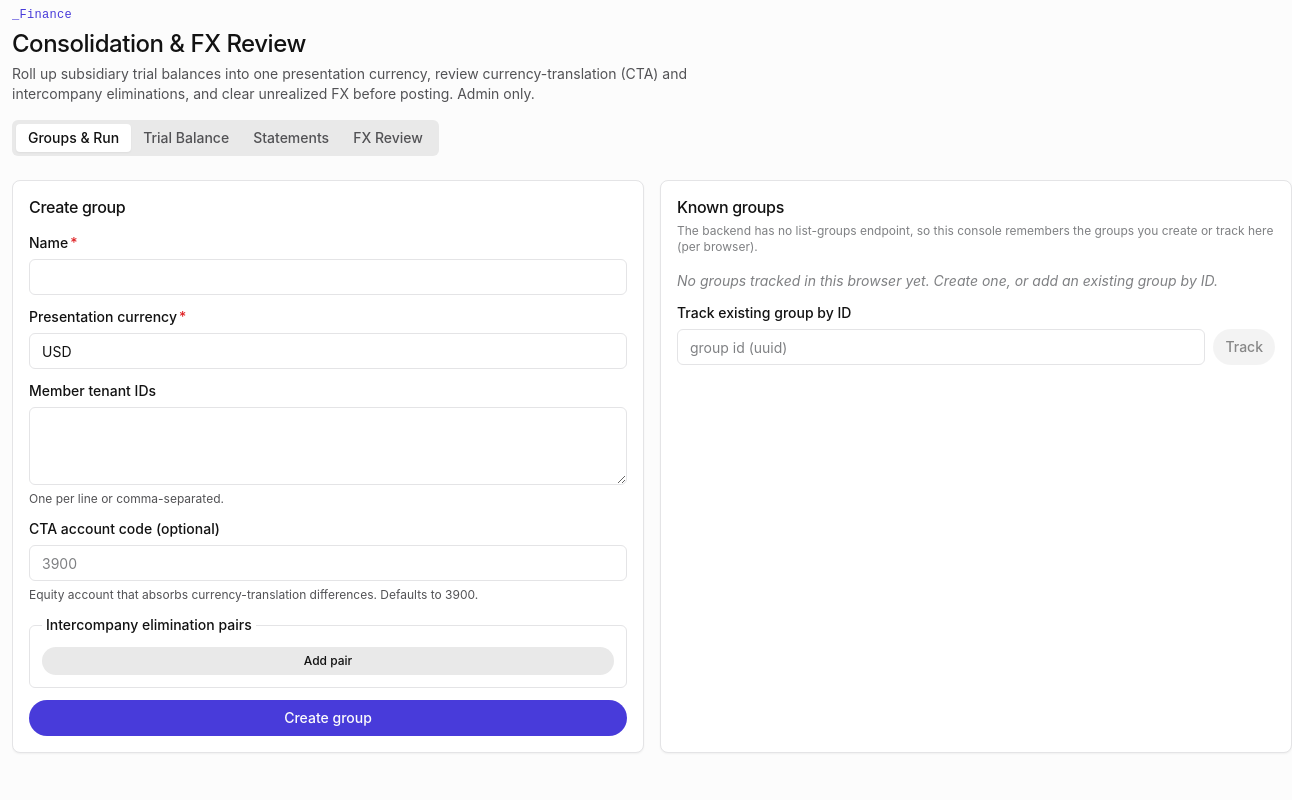
Test: ConsolidationPage › disables the run button when no group is selected
Step 1. Click the tab "Trial Balance" → (186, 138), box [131,124,241,152]
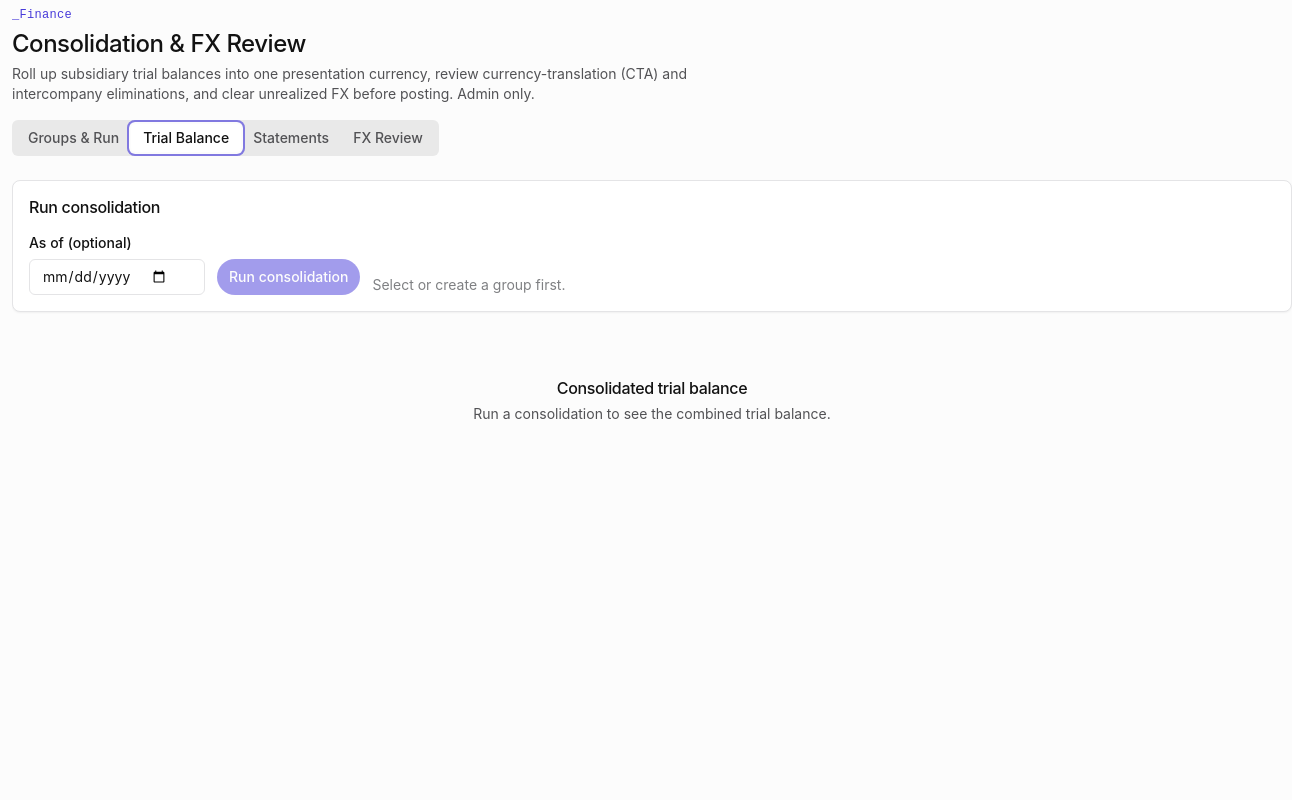
Expected: the button "Run consolidation" is disabled, [217,259,360,295]
Expected: the text "Select or create a group first." is shown, [372,275,565,295]
